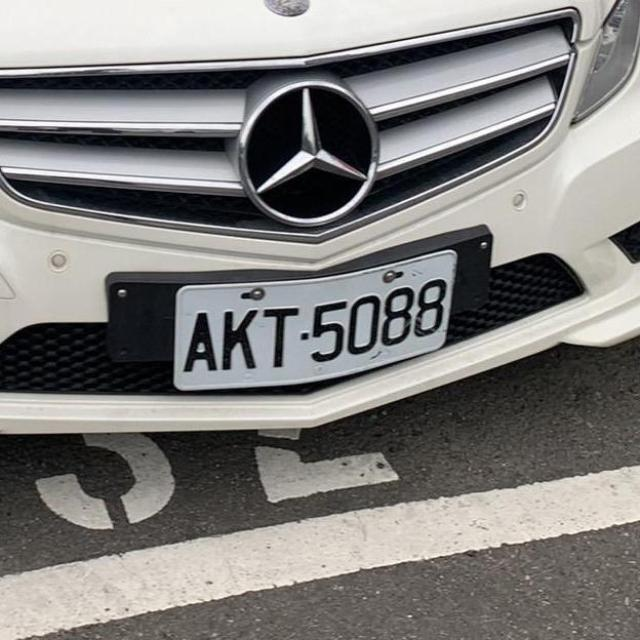W: (171, 249, 460, 393)
